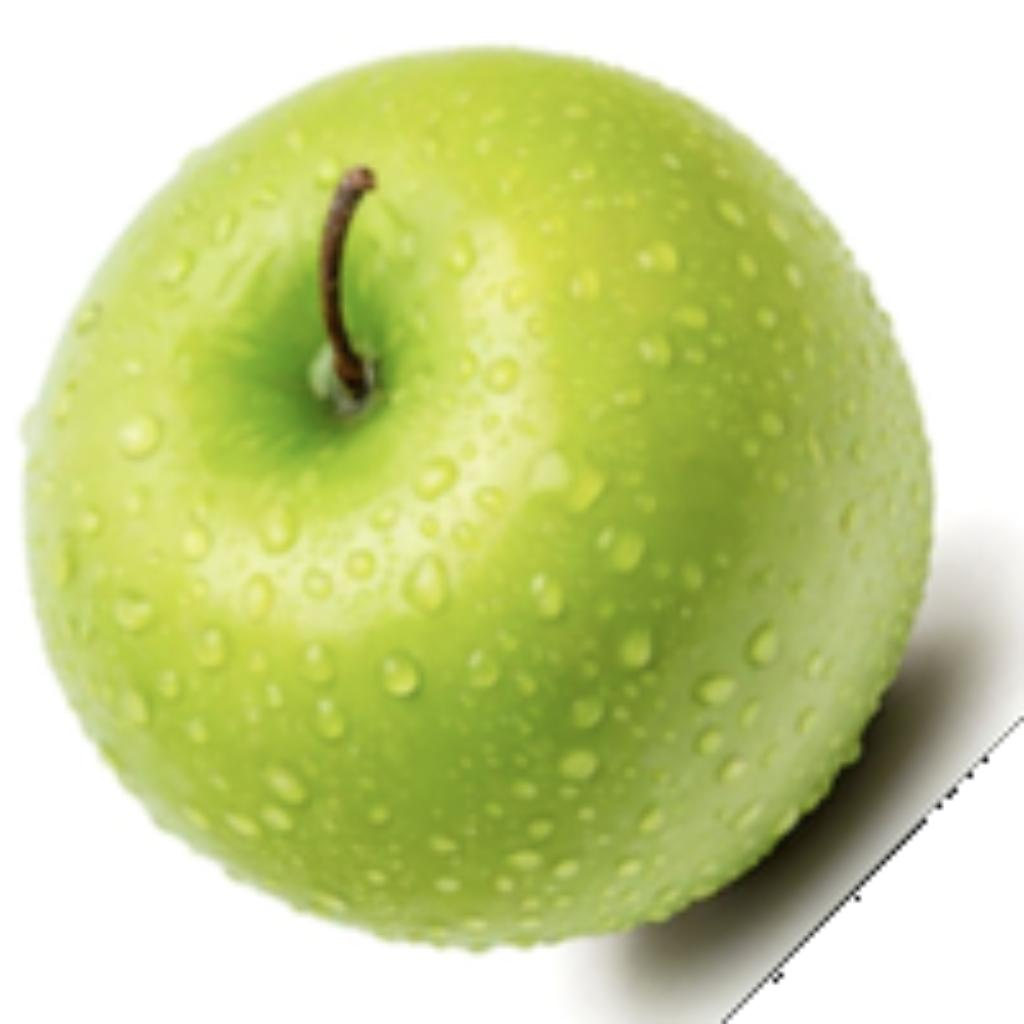apple: (10, 36, 1019, 1019)
